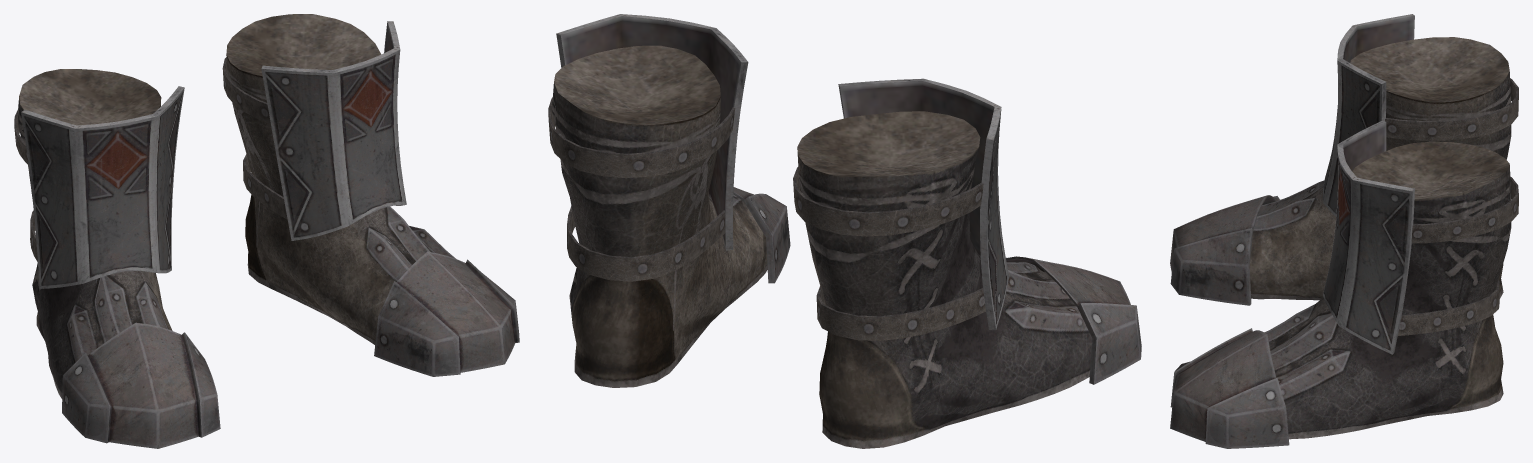
Rendered from sk_dwarf_iron_boots_heavy_a1.fbx.
The picture shows the model from 3 angles, left to right: view 1: azimuth 30°, elevation 25°; view 2: azimuth 150°, elevation 25°; view 3: azimuth 270°, elevation 25°; orthographic projection. The views are drawn at different scales.
Visible parts, largest first — view 1: sk_dwarf_iron_boots_heavy_a1.0, sk_dwarf_iron_boots_heavy_a1.1; view 2: sk_dwarf_iron_boots_heavy_a1.0, sk_dwarf_iron_boots_heavy_a1.1; view 3: sk_dwarf_iron_boots_heavy_a1.0, sk_dwarf_iron_boots_heavy_a1.1.
Boxes of the visible parts, box(x1,y1,x2,y2) form: sk_dwarf_iron_boots_heavy_a1.0: box(17, 14, 519, 448); sk_dwarf_iron_boots_heavy_a1.1: box(14, 57, 287, 261); sk_dwarf_iron_boots_heavy_a1.0: box(552, 14, 1141, 448); sk_dwarf_iron_boots_heavy_a1.1: box(548, 97, 985, 340); sk_dwarf_iron_boots_heavy_a1.0: box(1170, 14, 1511, 448); sk_dwarf_iron_boots_heavy_a1.1: box(1385, 78, 1518, 335).
Bounding box in the file's own units: 0.5675 × 0.4046 × 0.3127.
2 materials, 2 textured.
